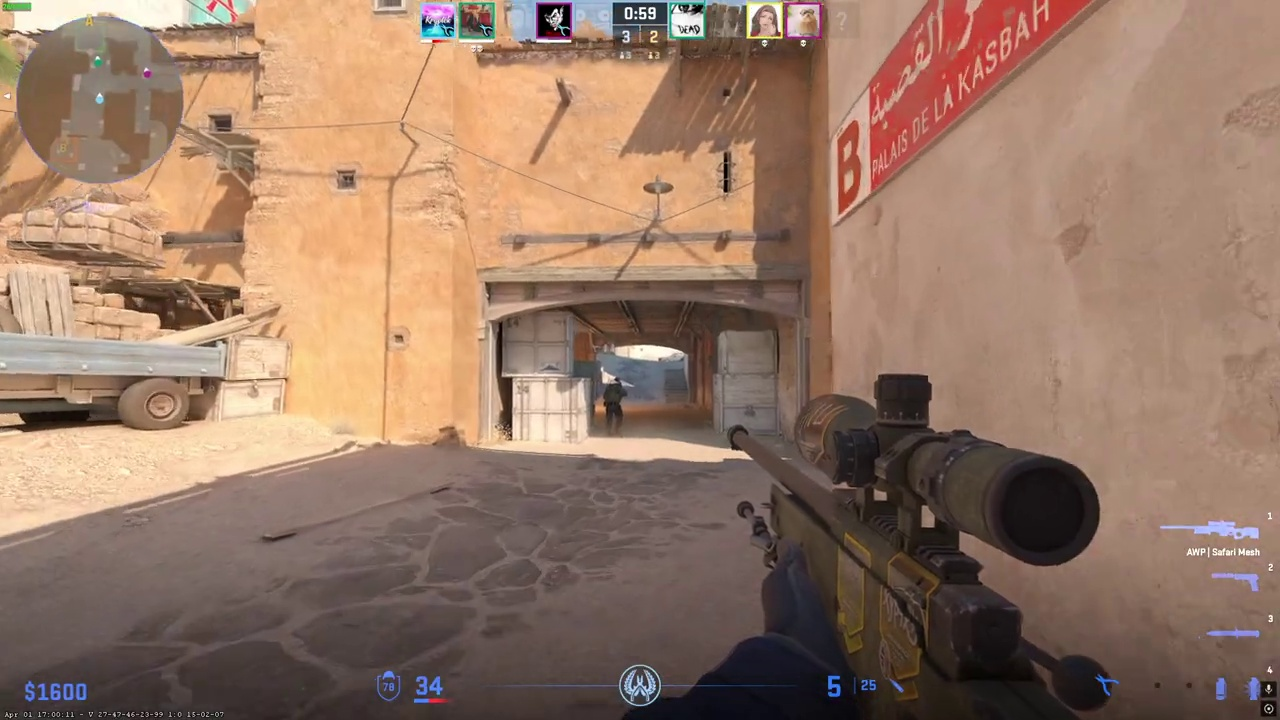CT: (604, 377, 626, 435)
